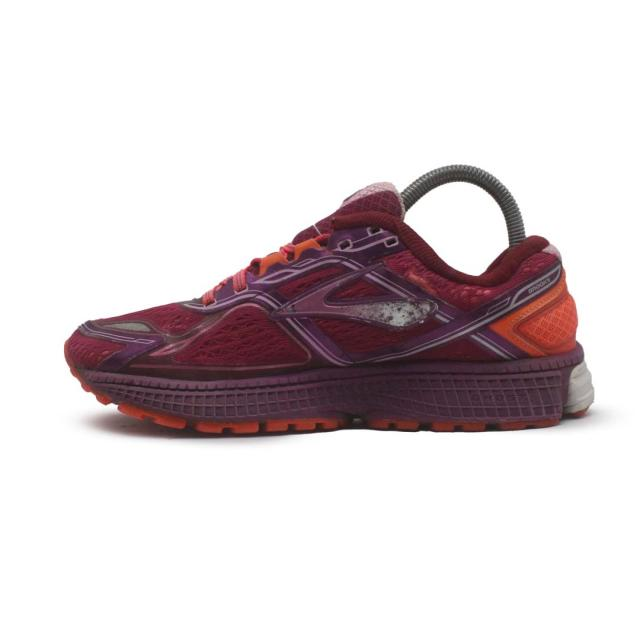heel: (513, 234, 574, 361)
midsole: (67, 351, 595, 434)
uppersole: (64, 187, 534, 360)
